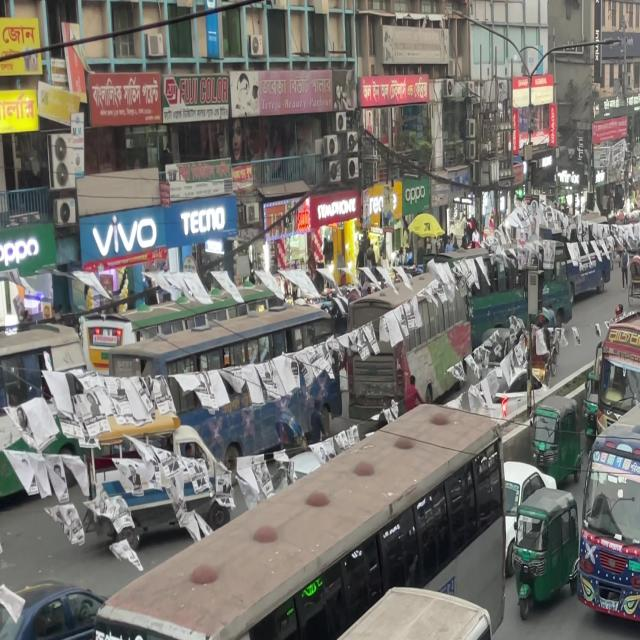bus: (37, 396, 518, 640), (37, 562, 509, 640), (573, 301, 640, 630), (595, 277, 640, 410)
car: (52, 425, 236, 554), (0, 580, 107, 640)
rickshaw: (506, 467, 581, 615)
